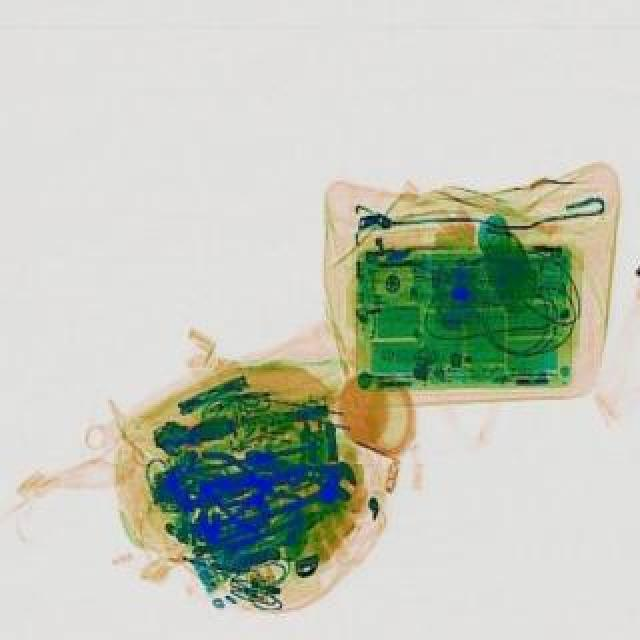scissors: (236, 434, 364, 510)
wrench: (198, 446, 310, 530)
